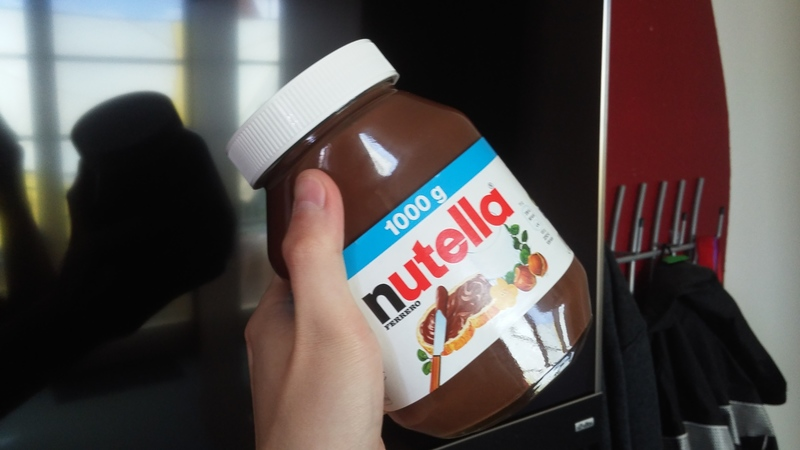nutella: (225, 37, 594, 440)
